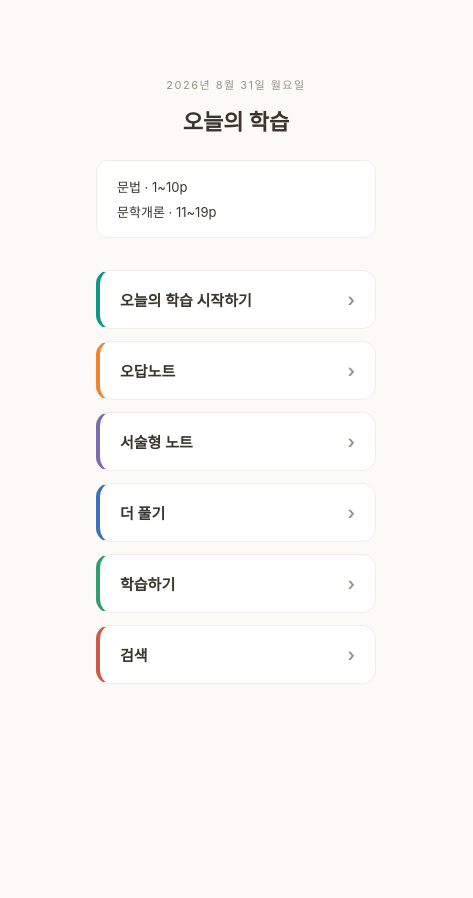
Test: Daily session page › groups questions under the correct book section and restarts numbering at Q1 per section
The image size is (473, 898).
Click the button "오늘의 학습 시작하기 ›" at (236, 300), box left=96, top=270, right=376, bottom=329
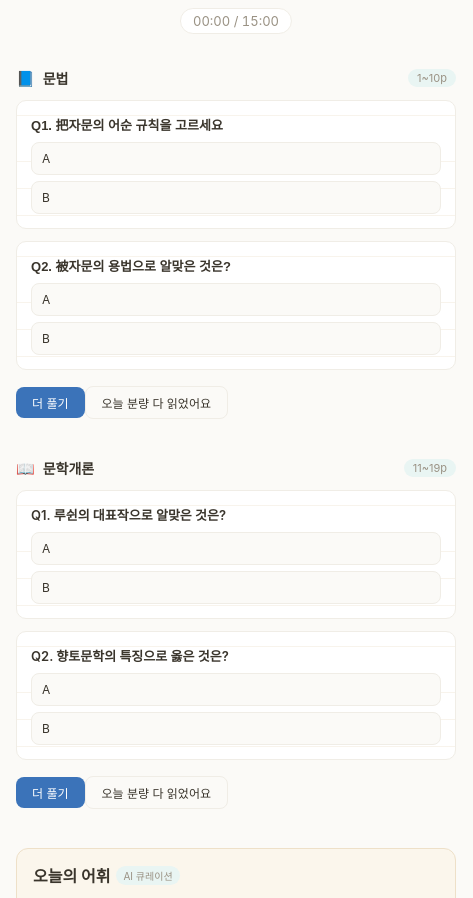
expect the text "Q1. 把자문의 어순 규칙을 고르세요" is shown: met, box left=31, top=115, right=223, bottom=134
expect the text "Q1. 把자문의 어순 규칙을 고르세요" is shown 2 times: met, box left=31, top=115, right=223, bottom=134; left=31, top=505, right=226, bottom=524
expect the text "문법" is shown: met, box left=43, top=70, right=68, bottom=87
